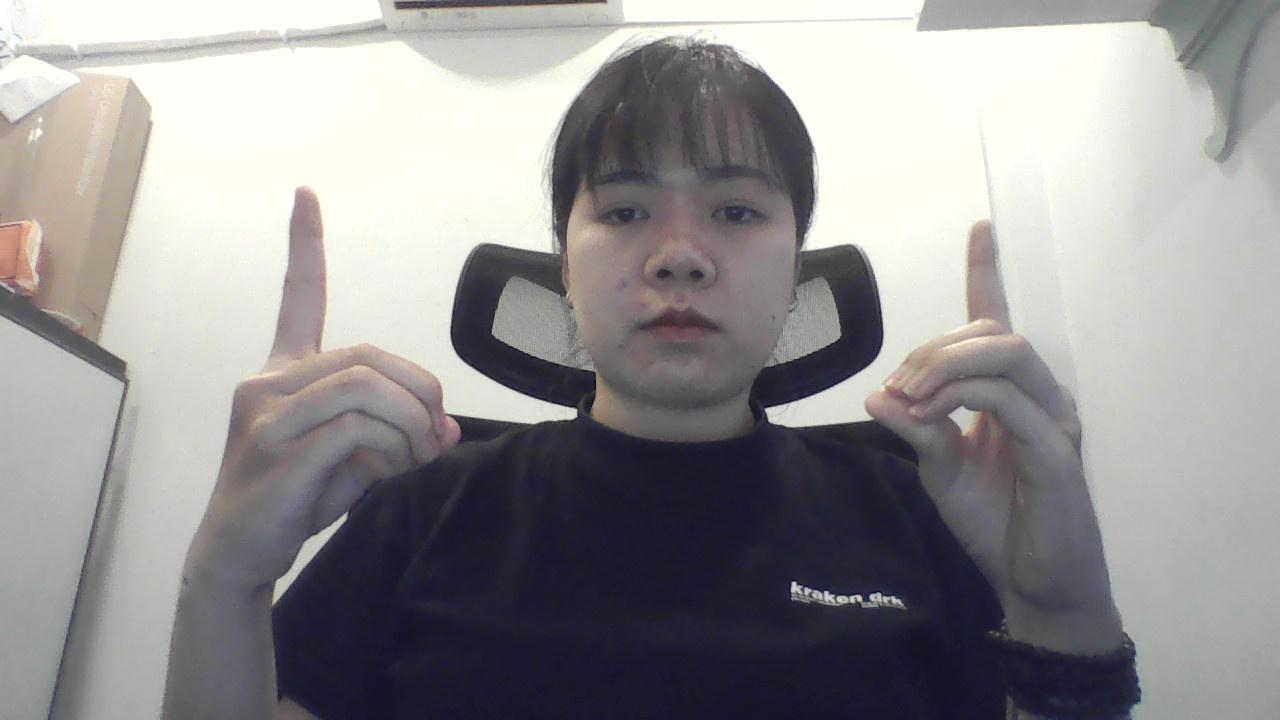D: (854, 202, 1116, 622), (190, 179, 462, 581)
